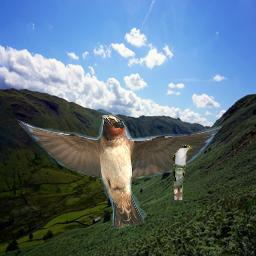Cuckoo: (172, 144, 194, 200)
Swallow: (16, 114, 222, 229)
